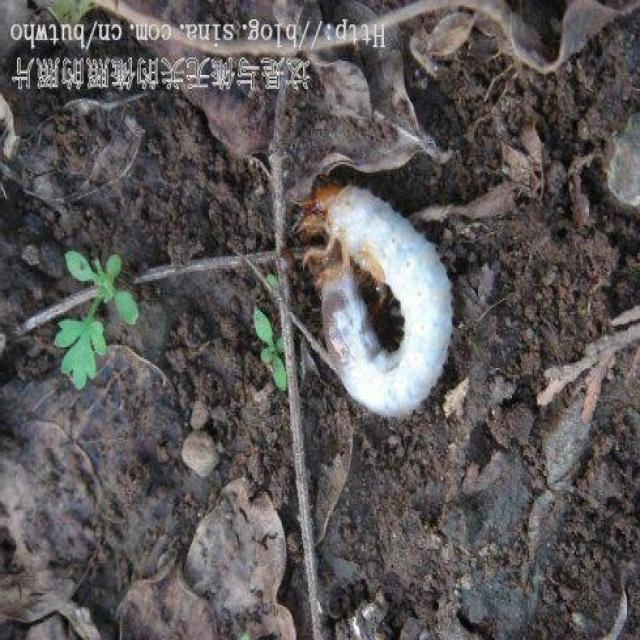grub: (306, 176, 460, 447)
